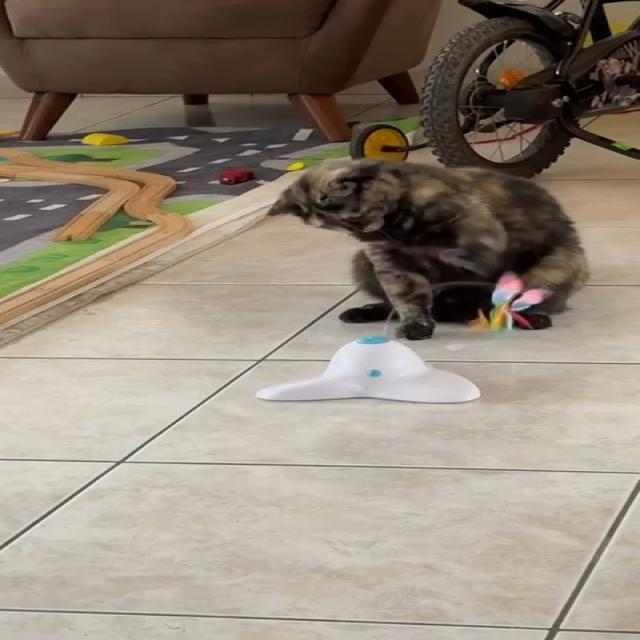authorized: (265, 156, 591, 340)
